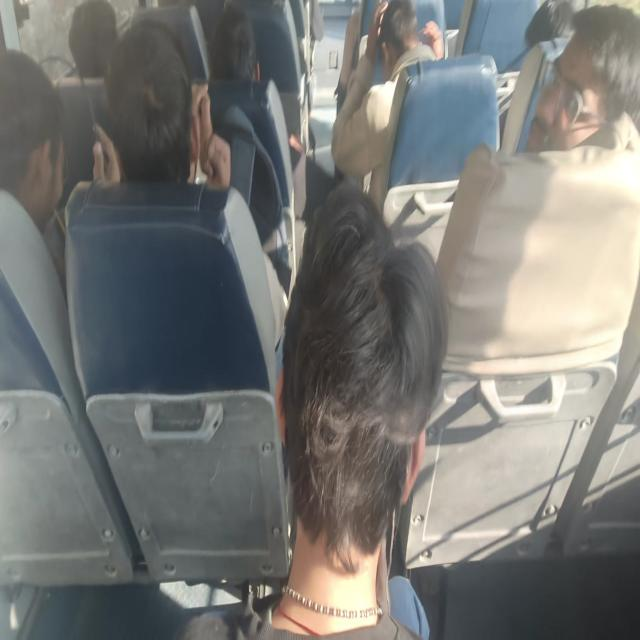person: (263, 182, 449, 638), (435, 2, 639, 364), (88, 17, 231, 190), (331, 0, 445, 214), (524, 3, 639, 153), (0, 47, 69, 295), (67, 0, 118, 79)
